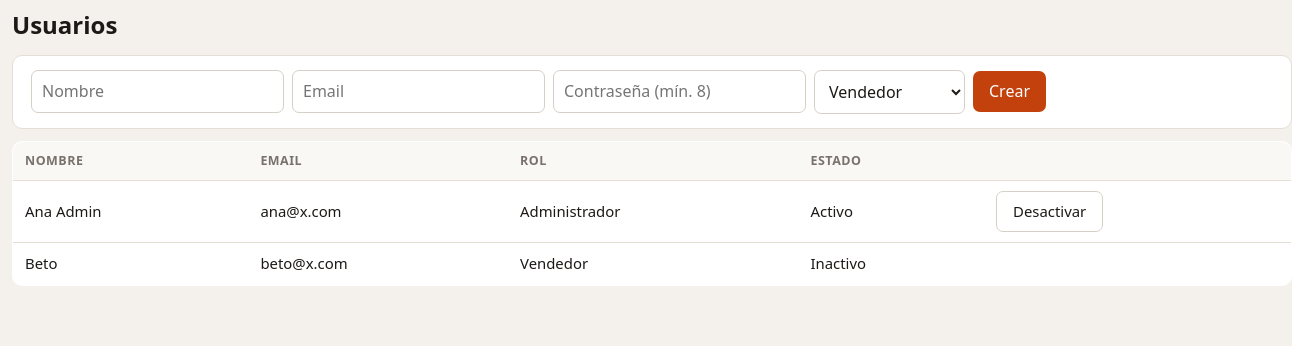
Test: UsuariosPage › error al desactivar
Click the button "Desactivar": x=1050, y=212 [996,191,1103,232]
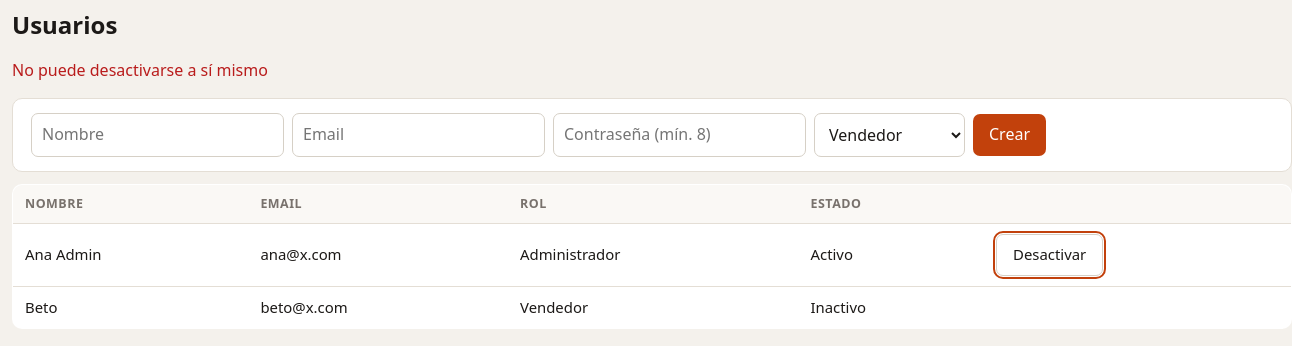
Expected: the message shows "No puede desactivarse", [12,59,268,81]
